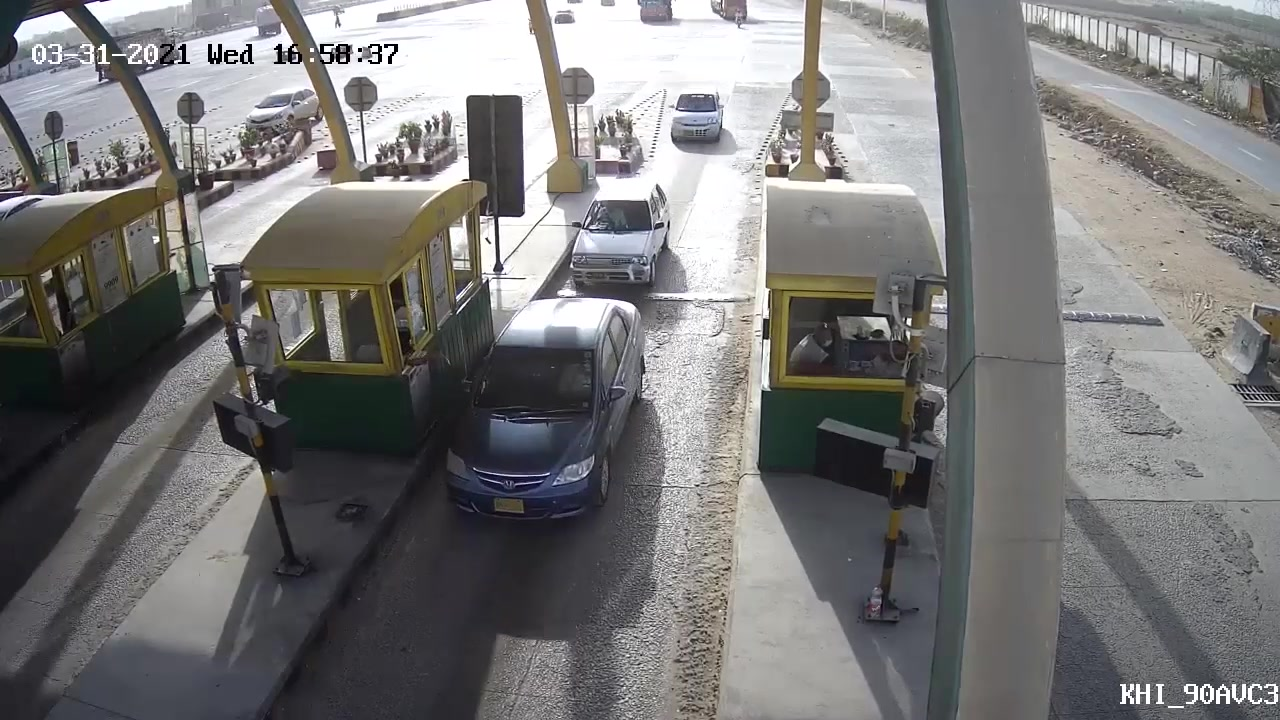F1: (439, 295, 643, 534), (564, 175, 681, 283), (663, 82, 737, 151)
